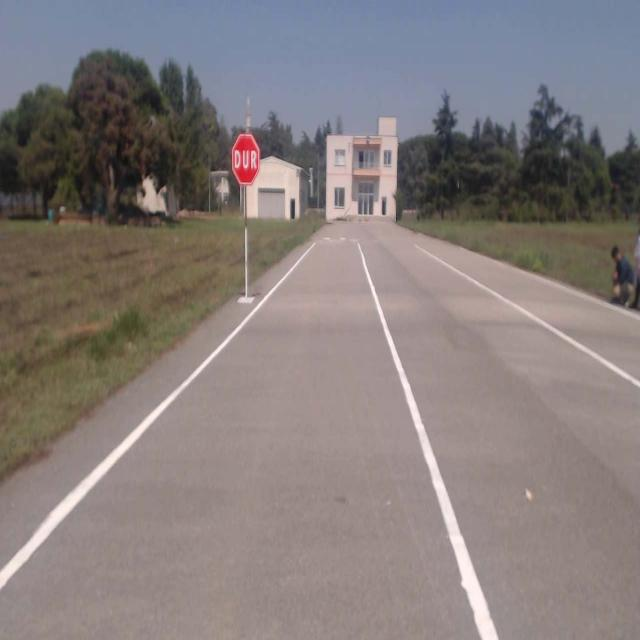dur: (232, 134, 260, 185)
